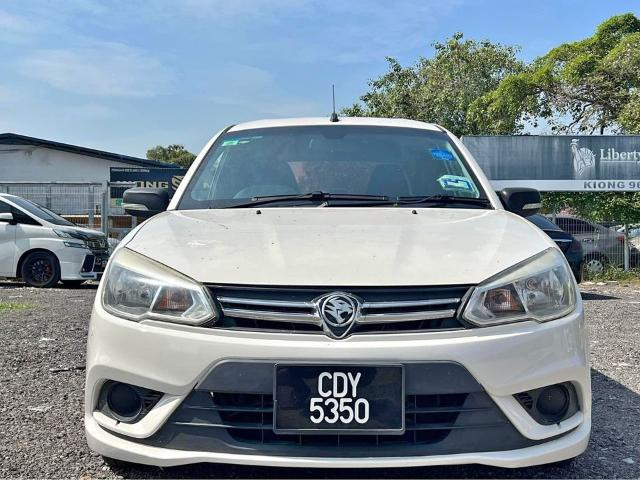License_Plate: (281, 362, 402, 435)
car: (83, 117, 593, 473)
